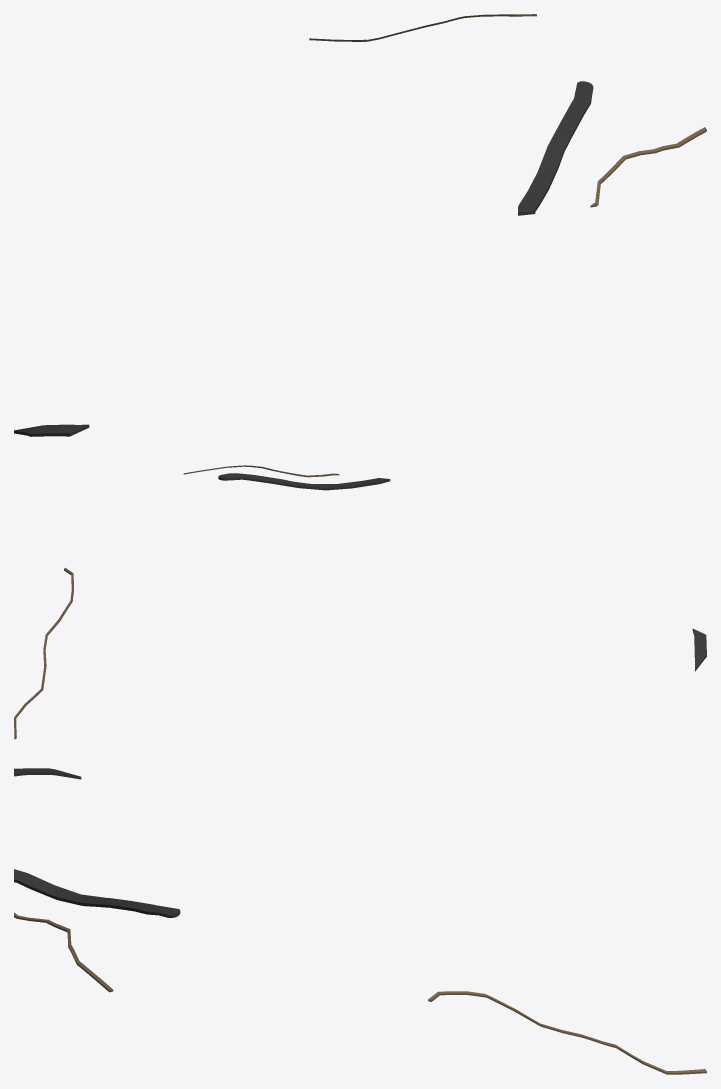
3 views of the same model, one above another, from view 1: azimuth 30°, elevation 25°; view 2: azimuth 150°, elevation 25°; view 3: azimuth 270°, elevation 25° (orthographic). The views are drawn at different scales.
Bounding box in the file's own units: 293 × 66.44 × 265.
